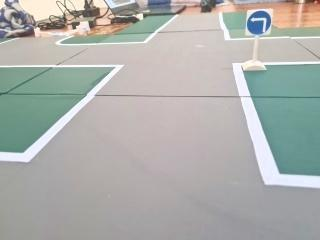left: (243, 6, 277, 40)
